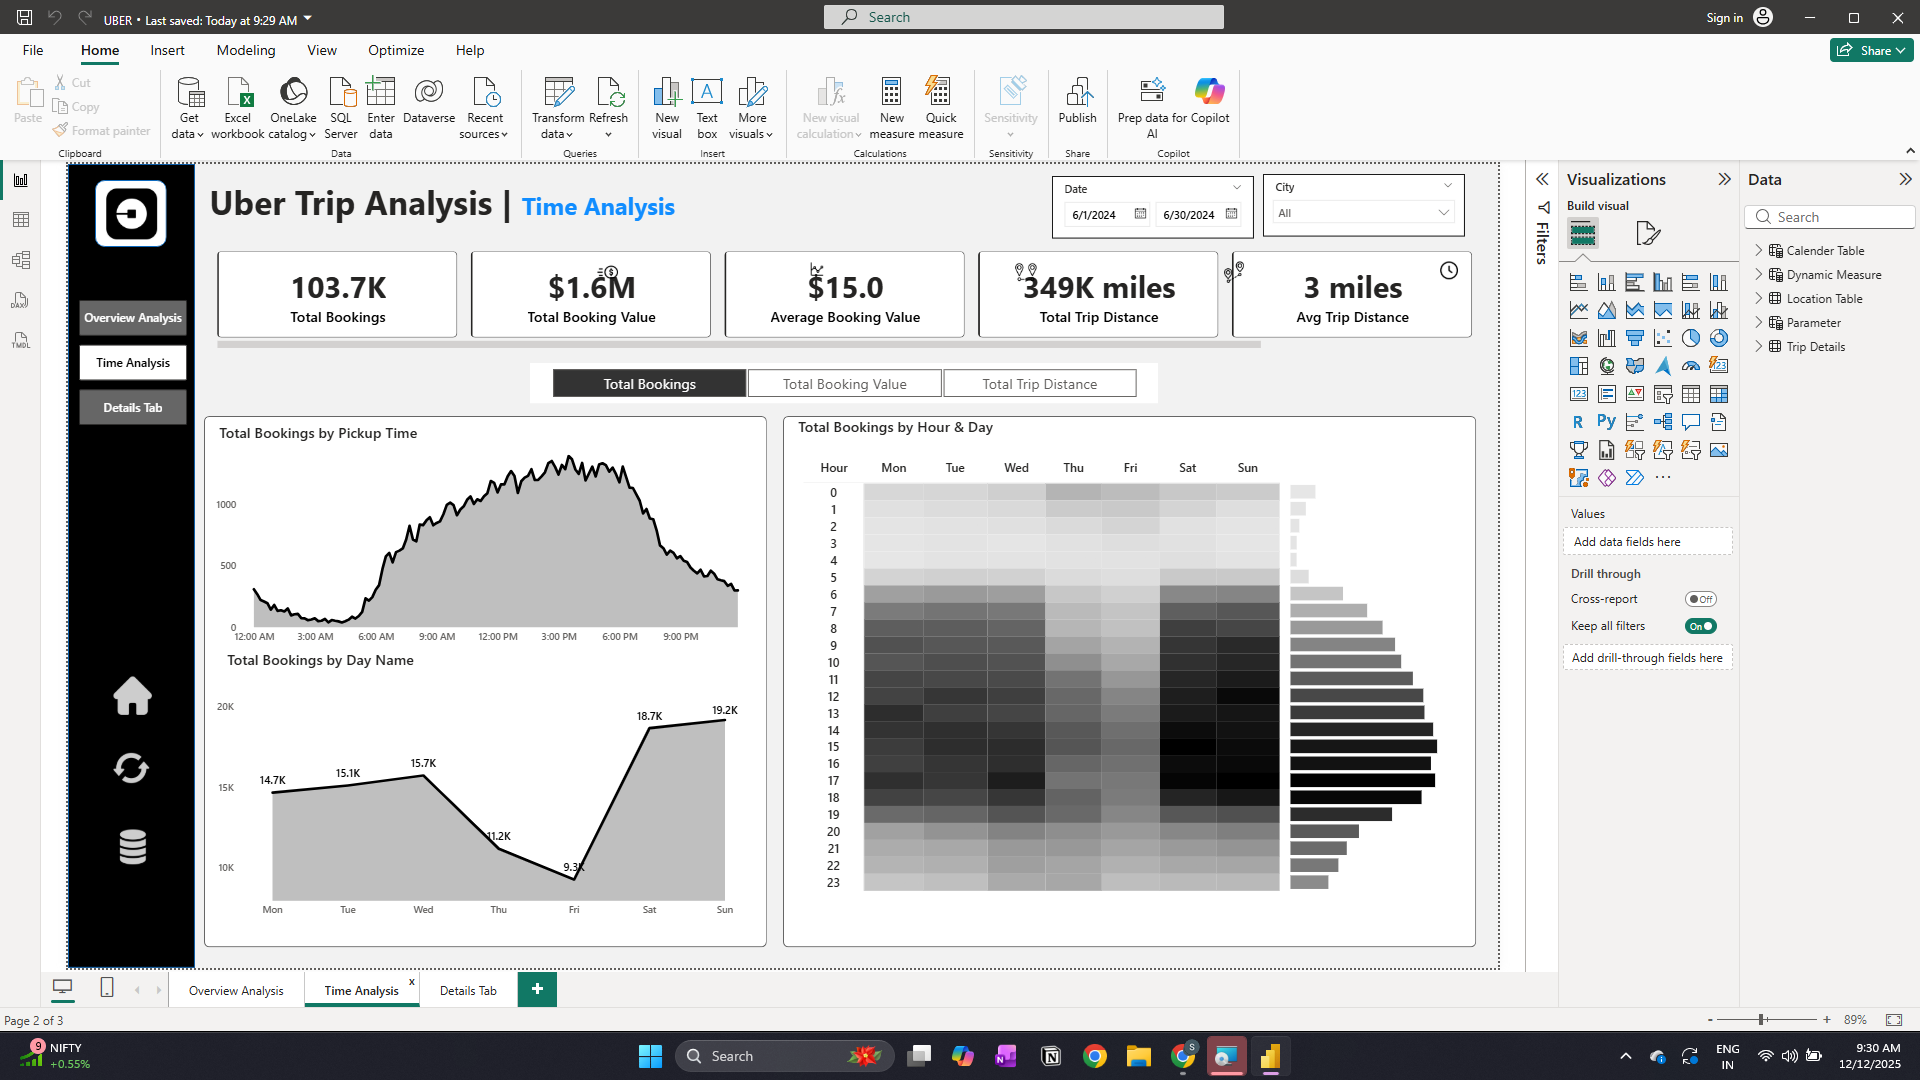

What the dashboard file says about the page in this screenshot:
{"tool":"powerbi","page":{"name":"Time Analysis","canvas":[1600,900],"ordinal":1},"visuals":[{"type":"shape","box":[0,0,142,899.7],"z":0},{"type":"textbox","box":[152.8,12.6,666.8,69.5],"z":1000},{"type":"cardVisual","fields":{"Data":["Trip Details.Total Bookings","Trip Details.Total Booking Amount","Trip Details.Average Booking Amount","Trip Details.Total Trip Distance","Trip Details.Avg Trip Distance","Trip Details.Avg Trip Time"]},"box":[162,93,1415,120],"z":2000},{"type":"image","box":[587.2,103.6,32.8,34.1],"z":3000},{"type":"image","box":[1051.9,103.6,39.1,34.1],"z":4000},{"type":"image","box":[1285.6,103.6,41.7,34.1],"z":5000},{"type":"image","box":[819.6,103.6,37.9,26.5],"z":6000},{"type":"image","box":[1528,103.6,35.4,30.3],"z":7000},{"type":"shape","box":[152.6,281.7,630,594.6],"z":8000},{"type":"slicer","fields":{"Values":["Dynamic Measure.Dynamic Measure"]},"box":[517.3,222.5,703.1,44.7],"z":9000},{"type":"slicer","fields":{"Values":["Calender Table.Date"]},"box":[1101.9,13,225.6,70.4],"z":10000},{"type":"slicer","fields":{"Values":["Location Table.City"]},"box":[1337.9,11.7,225.6,70.4],"z":11000},{"type":"areaChart","fields":{"Y":["Trip Details.Total Bookings"],"Category":["Trip Details.Pickup Hour (HH MM SS) (bins)"]},"box":[160.6,312,614.8,235.1],"z":12000},{"type":"cardVisual","fields":{"Data":["Trip Details.Title for by Pickup Time"]},"box":[152.6,267.3,315.6,57.4],"z":13000},{"type":"lineChart","fields":{"Y":["Trip Details.Total Bookings"],"Category":["Calender Table.Day Name"]},"box":[161.7,593.3,612.9,259.5],"z":14000},{"type":"cardVisual","fields":{"Data":["Trip Details.Title for by Day Name"]},"box":[161.7,521.6,315.6,57.4],"z":15000},{"type":"shape","box":[800.7,281.7,775.9,594.6],"z":16000},{"type":"pivotTable","fields":{"Values":["Trip Details.Total Bookings"],"Rows":["Trip Details.Pickup Hour"],"Columns":["Calender Table.Day Name"]},"box":[818.4,325,544.7,515.8],"z":17000},{"type":"barChart","fields":{"Y":["Trip Details.Total Bookings"],"Category":["Trip Details.Pickup Hour"]},"box":[1363.3,346.3,176.1,490],"z":18000},{"type":"cardVisual","fields":{"Data":["Trip Details.Title for by Hour and Day"]},"box":[800,260.5,314.5,56.6],"z":19000},{"type":"shape","box":[30.3,18.4,80.3,75],"z":19001},{"type":"image","box":[35.5,22.4,71.1,67.1],"z":19002},{"type":"pageNavigator","box":[11.8,152.6,121.1,140.8],"z":19003},{"type":"image","box":[46.1,648.7,50,55.3],"z":19004},{"type":"image","box":[43.4,739.5,57.9,48.7],"z":19005},{"type":"image","box":[46.1,568.4,52.6,52.6],"z":19006}]}

Visuals, with their boxes on the page's 1600x900 design canvas (x1, y1, x2, y2). These are canvas units, not pixel positions in the 1920x1080 screenshot, which may show the page scaled, cropped or inside an application window:
shape: (0,0,142,900)
textbox: (153,13,820,82)
cardVisual - Trip Details.Total Bookings x Trip Details.Total Booking Amount: (162,93,1577,213)
image: (587,104,620,138)
image: (1052,104,1091,138)
image: (1286,104,1327,138)
image: (820,104,858,130)
image: (1528,104,1563,134)
shape: (153,282,783,876)
slicer - Dynamic Measure.Dynamic Measure: (517,222,1220,267)
slicer - Calender Table.Date: (1102,13,1328,83)
slicer - Location Table.City: (1338,12,1564,82)
areaChart - Trip Details.Total Bookings x Trip Details.Pickup Hour (HH MM SS) (bins): (161,312,775,547)
cardVisual - Trip Details.Title for by Pickup Time: (153,267,468,325)
lineChart - Trip Details.Total Bookings x Calender Table.Day Name: (162,593,775,853)
cardVisual - Trip Details.Title for by Day Name: (162,522,477,579)
shape: (801,282,1577,876)
pivotTable - Trip Details.Total Bookings x Trip Details.Pickup Hour: (818,325,1363,841)
barChart - Trip Details.Total Bookings x Trip Details.Pickup Hour: (1363,346,1539,836)
cardVisual - Trip Details.Title for by Hour and Day: (800,260,1114,317)
shape: (30,18,111,93)
image: (36,22,107,90)
pageNavigator: (12,153,133,293)
image: (46,649,96,704)
image: (43,740,101,788)
image: (46,568,99,621)
